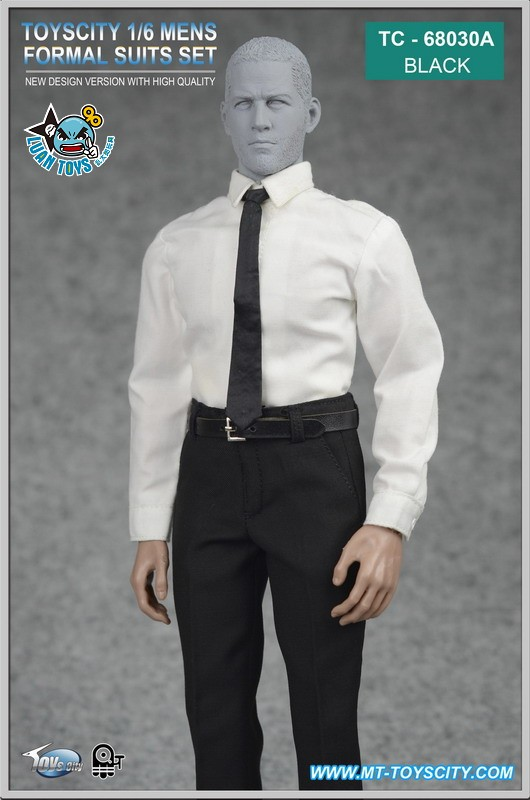F_belt: (168, 403, 385, 461)
F_dress pants: (165, 460, 374, 780)
F_shirt: (142, 175, 441, 540)
F_tie: (223, 187, 277, 418)
